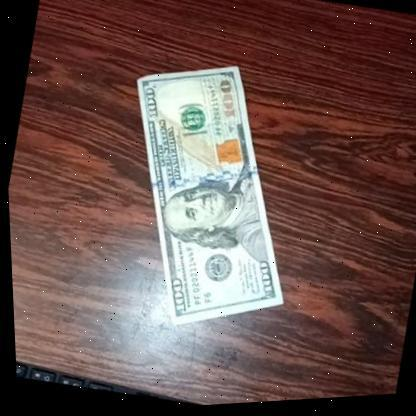one_hundred-front: (85, 43, 328, 356)
